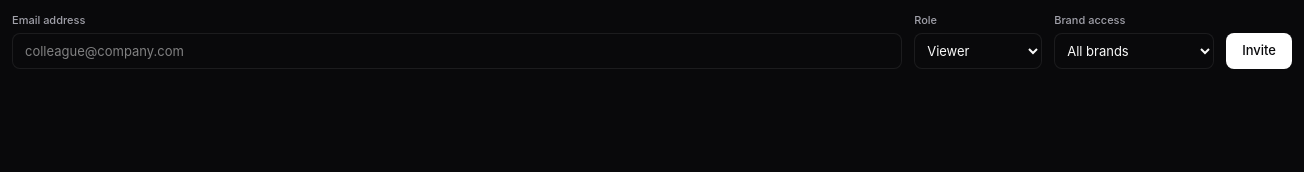
4.3 — InviteForm: 3 controls + brand_access picker (F11) › selecting 'Specific brands' shows brand checkboxes
Select "Specific brands" in the dropdown labelled "Brand access": {"x": 1134, "y": 50} 1054,32 -> 1214,68
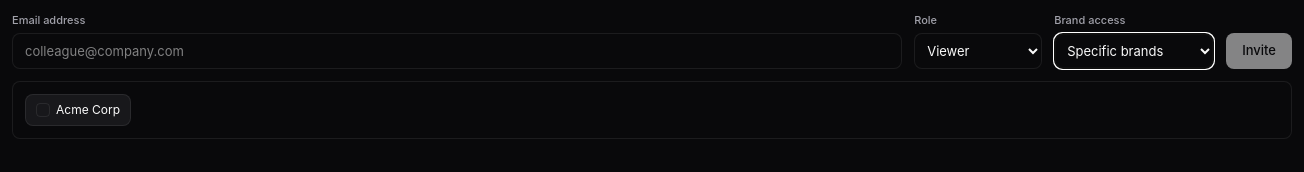
Check: the checkbox "Acme Corp" is shown, box 25,94 -> 131,126
